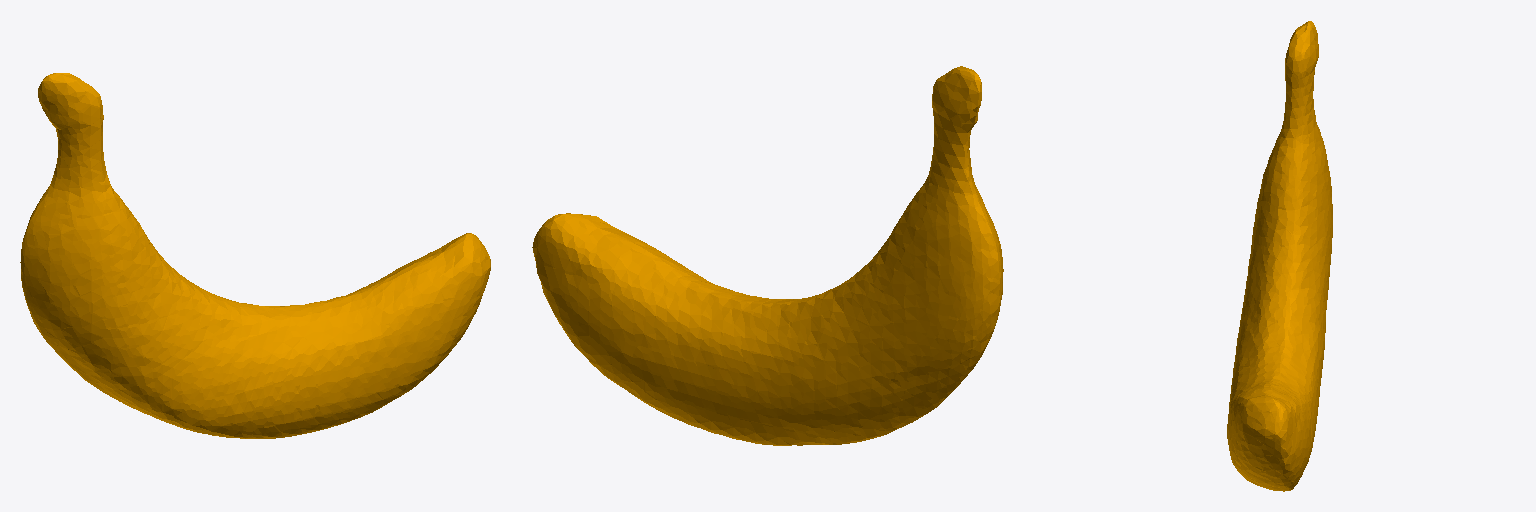
robot.urdf — model_1778240506:
<?xml version="1.0" ?>
<robot name="model_1778240506">
  <link name="base_link">
    <inertial>
      <origin xyz="0.04659769006385651 -0.12546028822630811 1.282982116136696" rpy="0 0 0"/>
      <mass value="1.0809074383428856"/>
      <inertia ixx="0.24319931501006942" ixy="0.22337955958912087" ixz="-0.054034523494282116" iyy="0.673310770224664" iyz="0.02511590643798475" izz="0.8664817155603314"/>
    </inertial>
    <visual>
      <origin xyz="0 0 1.2750175595283508" rpy="0 0 0"/>
      <geometry>
        <mesh filename="visual.obj" scale="3.0 3.0 3.0"/>
      </geometry>
    </visual>
    <collision>
      <origin xyz="0 0 1.2750175595283508" rpy="0 0 0"/>
      <geometry>
        <mesh filename="collision.obj" scale="3.0 3.0 3.0"/>
      </geometry>
    </collision>
  </link>
</robot>

--- Render facts (derived) ---
The picture shows the robot from 3 angles, left to right: view 1: azimuth 30°, elevation 25°; view 2: azimuth 150°, elevation 25°; view 3: azimuth 270°, elevation 25°; orthographic projection.
Model model_1778240506 with 1 links and 0 joints (none), rooted at base_link, posed every joint at zero.
Visible links, largest first — view 1: base_link; view 2: base_link; view 3: base_link.
Link boxes in pixels (bbox=[...]): base_link: bbox=[20, 73, 490, 438]; base_link: bbox=[532, 66, 1003, 445]; base_link: bbox=[1227, 21, 1332, 491].
Bounding box of the posed robot: 3 × 0.7058 × 2.55 m (x, y, z).
Meshes: 1 distinct files referenced, 1 mesh visuals loaded (1 OBJ).
